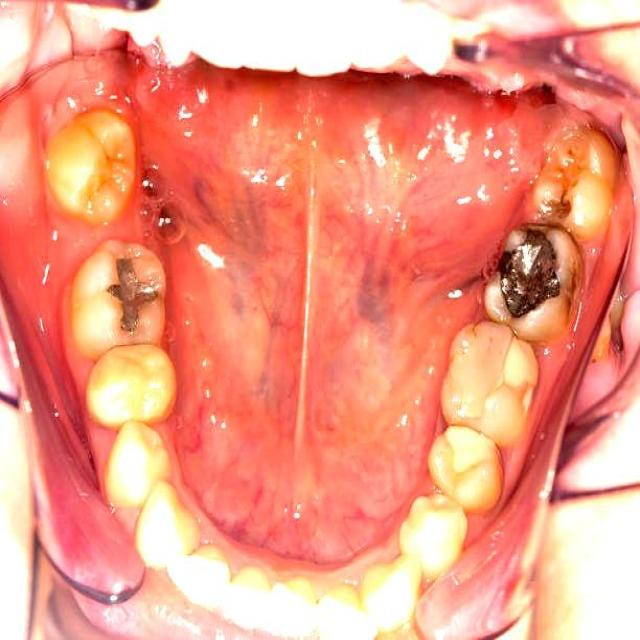caries: (483, 220, 562, 322), (94, 249, 166, 342), (480, 330, 544, 420), (535, 166, 590, 231)
